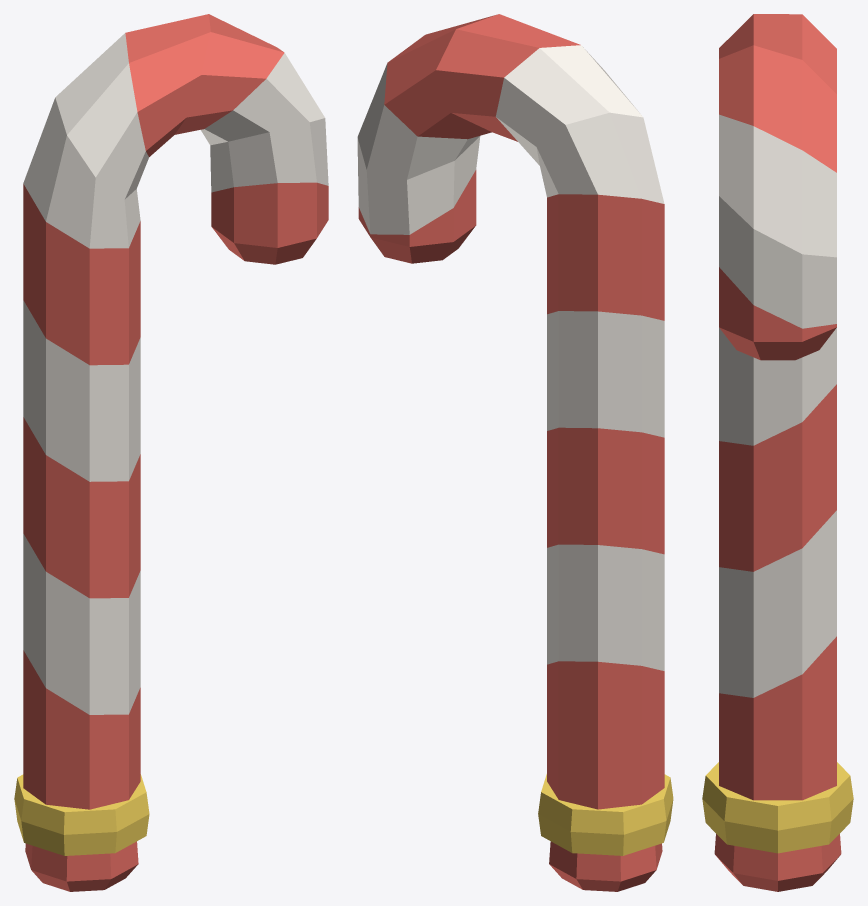
File: GiantCane_lp2.glb
3 views of the same model, side by side, from view 1: azimuth 30°, elevation 25°; view 2: azimuth 150°, elevation 25°; view 3: azimuth 270°, elevation 25° (orthographic). The views are drawn at different scales.
Parts seen in each view (by area): view 1: Red, White, Gold; view 2: Red, White, Gold; view 3: Red, White, Gold.
Boxes of the visible parts, x1=… form: Red: x1=23, y1=14, x2=328, y2=891; White: x1=23, y1=33, x2=328, y2=714; Gold: x1=14, y1=774, x2=149, y2=855; Red: x1=358, y1=14, x2=664, y2=891; White: x1=357, y1=45, x2=664, y2=670; Gold: x1=538, y1=774, x2=673, y2=855; Red: x1=714, y1=14, x2=841, y2=891; White: x1=719, y1=114, x2=836, y2=697; Gold: x1=702, y1=762, x2=853, y2=853.
Bounding box in the file's own units: 3.01 × 7.94 × 1.23.
